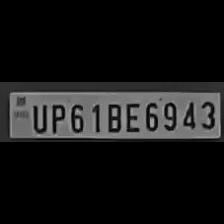1: (86, 102, 104, 132)
3: (198, 98, 216, 130)
4: (179, 98, 197, 130)
6: (66, 101, 86, 133), (141, 99, 158, 131)
9: (160, 99, 178, 130)
B: (102, 100, 122, 132)
E: (122, 100, 140, 132)
P: (48, 101, 66, 133)
U: (29, 102, 47, 132)
